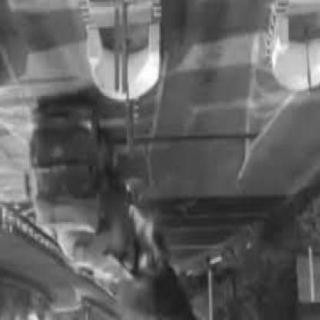Smoke: (130, 274, 198, 318)
